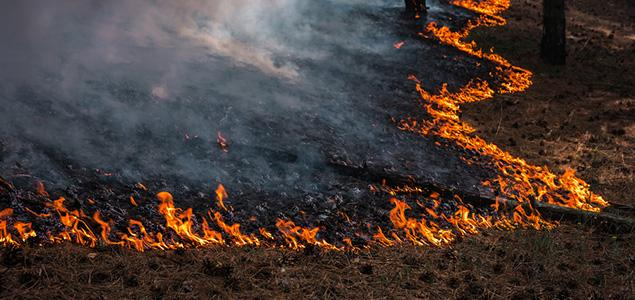Fire: (7, 175, 615, 257), (392, 2, 559, 171)
